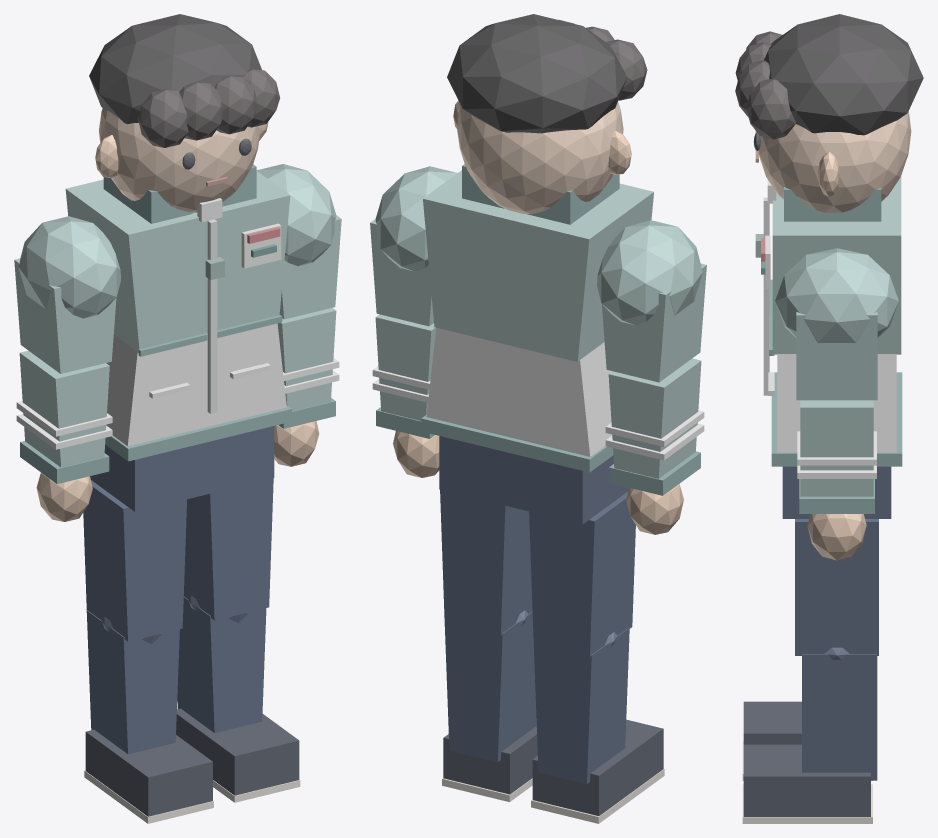
The model's file is kien_an_student_lowpoly.glb.
3 renders of one model, left to right at view 1: azimuth 30°, elevation 25°; view 2: azimuth 150°, elevation 25°; view 3: azimuth 270°, elevation 25°, orthographic. The views are drawn at different scales.
Visible parts, largest first — view 1: Jacket_Upper_Teal, Jacket_Lower_White, LeftThigh, HairCap, RightThigh, LeftShin, RightShin, Pants_Waist, Head, LeftShoulderCap, LeftShoe, LeftForearmSleeve (+24 smaller); view 2: Jacket_Upper_Teal, Jacket_Lower_White, HairCap, LeftThigh, LeftShin, Head, RightThigh, RightShin, Pants_Waist, LeftShoulderCap, LeftForearmSleeve, LeftUpperSleeve (+18 smaller); view 3: HairCap, RightThigh, Head, RightShin, RightShoulderCap, Jacket_Upper_Teal, RightShoe, RightForearmSleeve, RightUpperSleeve, Jacket_Lower_White, LeftShoe, RightHand (+12 smaller).
Part boxes in pixels (box(x1,y1,x2,y2)): Jacket_Upper_Teal: box(65, 171, 290, 352); Jacket_Lower_White: box(106, 323, 286, 446); LeftThigh: box(83, 480, 186, 641); HairCap: box(89, 14, 261, 124); RightThigh: box(183, 478, 273, 620); LeftShin: box(86, 610, 179, 754); RightShin: box(177, 596, 266, 733); Pants_Waist: box(90, 426, 274, 511); Head: box(99, 108, 260, 212); LeftShoulderCap: box(18, 216, 120, 318); LeftShoe: box(85, 729, 212, 816); LeftForearmSleeve: box(19, 350, 109, 467); Jacket_Upper_Teal: box(423, 170, 653, 361); Jacket_Lower_White: box(426, 327, 612, 456); HairCap: box(447, 14, 627, 133); LeftThigh: box(529, 492, 635, 657); LeftShin: box(533, 627, 629, 783); Head: box(457, 101, 623, 214); RightThigh: box(440, 490, 532, 636); RightShin: box(444, 611, 536, 762); Pants_Waist: box(439, 436, 628, 524); LeftShoulderCap: box(597, 220, 702, 325); LeftForearmSleeve: box(608, 358, 701, 478); LeftUpperSleeve: box(602, 263, 706, 382); HairCap: box(764, 14, 923, 135); RightThigh: box(795, 519, 878, 655); Head: box(755, 111, 911, 212); RightShin: box(802, 654, 877, 780); RightShoulderCap: box(775, 248, 898, 342); Jacket_Upper_Teal: box(772, 176, 901, 354); RightShoe: box(743, 744, 870, 816); RightForearmSleeve: box(800, 400, 873, 496); RightUpperSleeve: box(796, 312, 877, 400); Jacket_Lower_White: box(777, 354, 896, 452); LeftShoe: box(743, 701, 801, 744); RightHand: box(807, 514, 866, 560).
Size of the model in its own units: 0.798 by 1.89 by 0.426.
